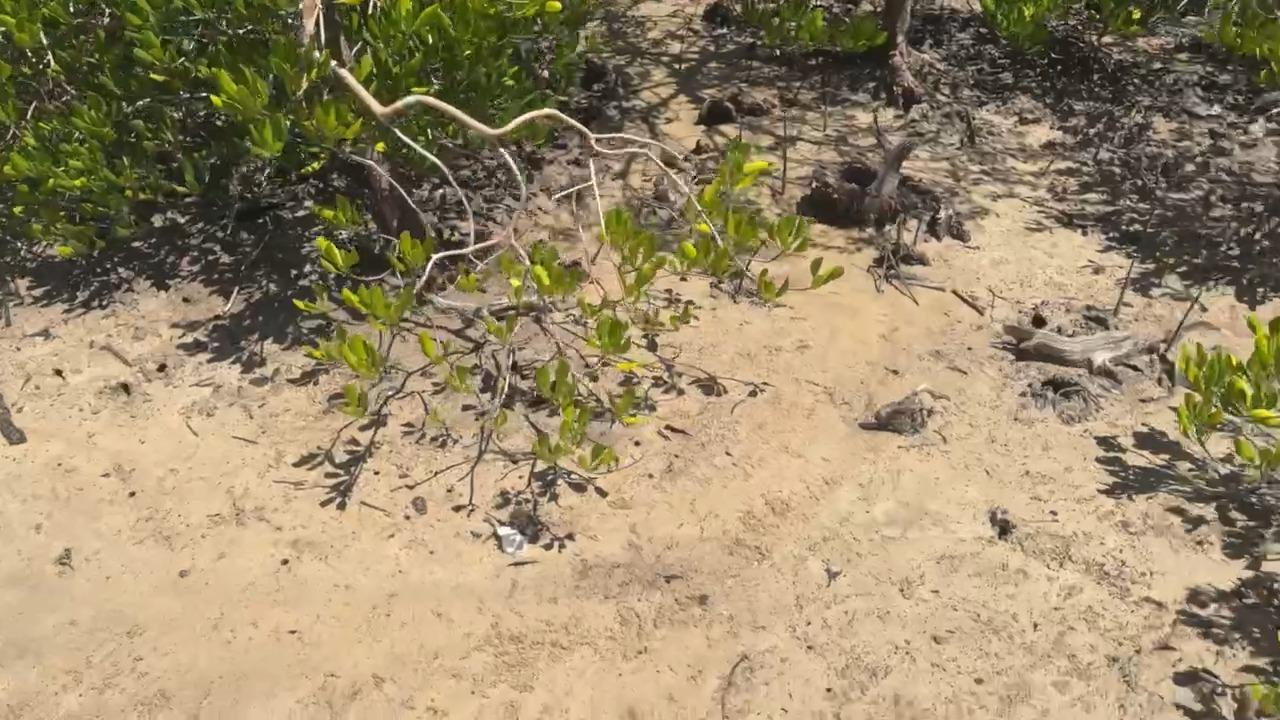Tree: (1165, 288, 1206, 355), (1112, 260, 1137, 317), (781, 108, 788, 195), (821, 69, 829, 133)
